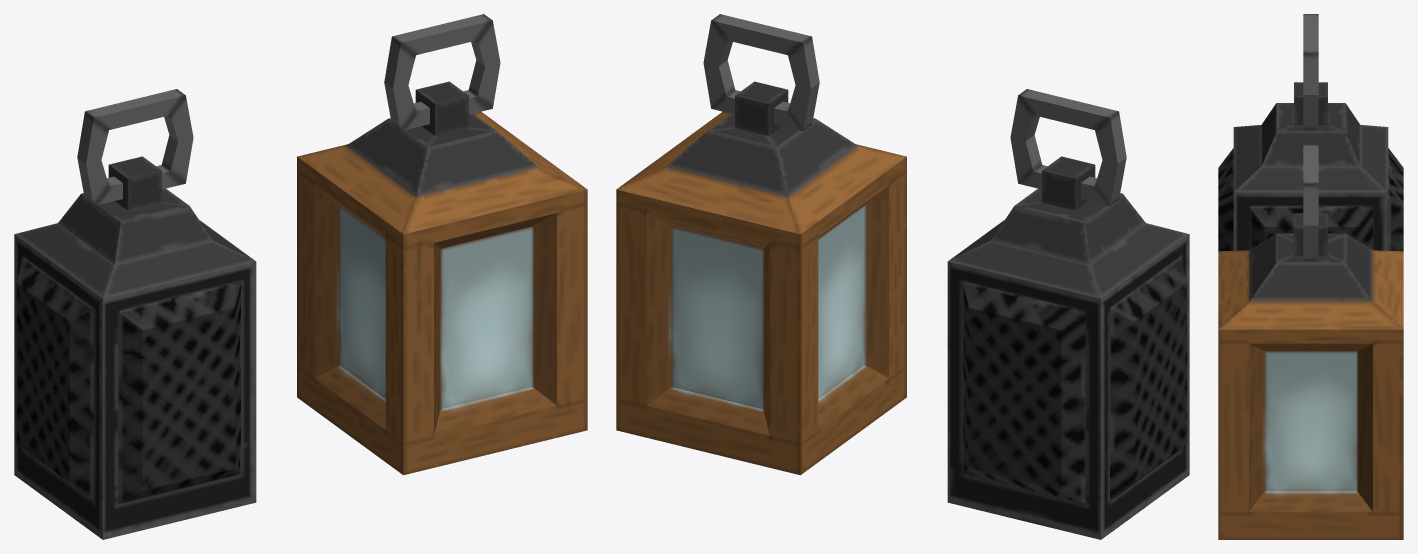
The model's file is Lantern 1.2.fbx.
The picture shows the model from 3 angles, left to right: view 1: azimuth 30°, elevation 25°; view 2: azimuth 150°, elevation 25°; view 3: azimuth 270°, elevation 25°; orthographic projection. The views are drawn at different scales.
Visible parts, largest first — view 1: Glasspanel Lantern, Wirecage Lantern; view 2: Glasspanel Lantern, Wirecage Lantern; view 3: Glasspanel Lantern, Wirecage Lantern.
Part boxes in pixels (left/top/right/bottom): Glasspanel Lantern: left=297, top=14, right=587, bottom=475; Wirecage Lantern: left=14, top=89, right=256, bottom=539; Glasspanel Lantern: left=616, top=14, right=906, bottom=475; Wirecage Lantern: left=947, top=89, right=1189, bottom=539; Glasspanel Lantern: left=1218, top=144, right=1403, bottom=539; Wirecage Lantern: left=1218, top=14, right=1403, bottom=251.
Bounding box in the file's own units: 160 × 120 × 60.
